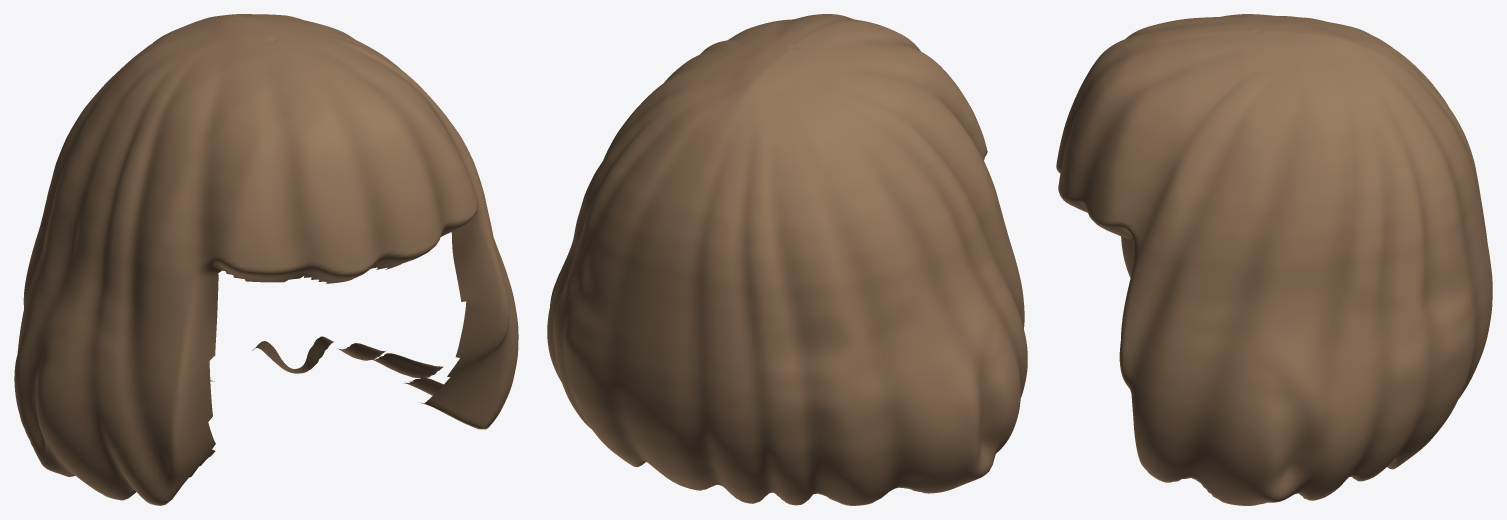
File: bob.gltf
3 views of the same model, side by side, from view 1: azimuth 30°, elevation 25°; view 2: azimuth 150°, elevation 25°; view 3: azimuth 270°, elevation 25° (orthographic). The views are drawn at different scales.
Visible parts, largest first — view 1: Hair_bob; view 2: Hair_bob; view 3: Hair_bob.
Boxes of the visible parts, x1,y1,x2,y2 form: Hair_bob: [14, 14, 518, 505]; Hair_bob: [547, 14, 1027, 505]; Hair_bob: [1056, 14, 1492, 505].
Size of the model in its own units: 0.5628 by 0.4734 by 0.4791.
